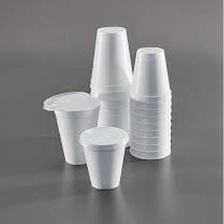paper_cup: (84, 21, 138, 151), (125, 41, 175, 163), (39, 86, 104, 168), (74, 121, 131, 192)
